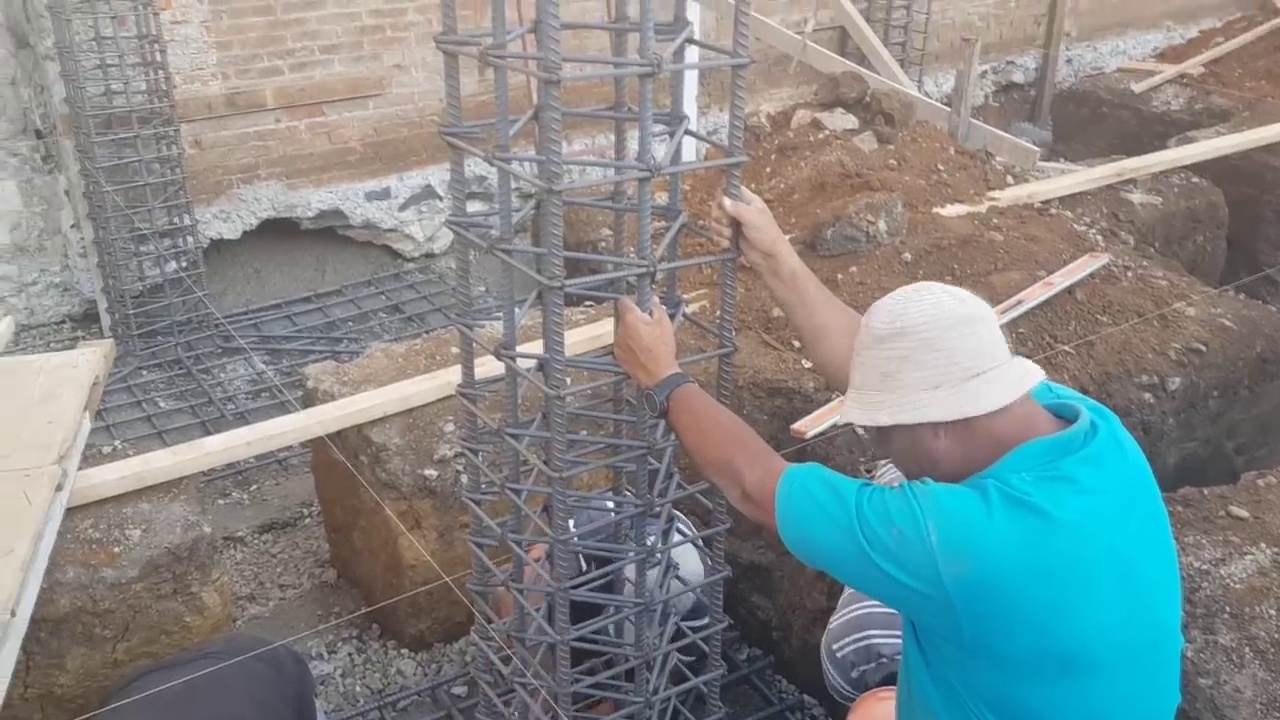helmet-off: (831, 302, 1070, 475), (610, 530, 704, 668)
person: (688, 243, 1215, 720), (489, 486, 711, 712)
